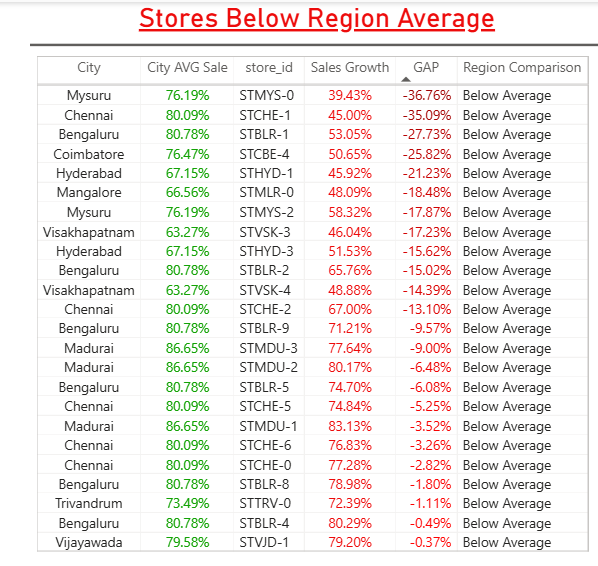

Layout of this report page (visuals, bound fields, positions):
{"tool":"powerbi","page":{"name":"Page 3","canvas":[1280,720],"ordinal":3},"visuals":[{"type":"tableEx","title":"Stores Below Region Average ","fields":{"Values":["stores.city","events.City Average Sales Growth","stores.store_id","events.Sales Growth","events.GAP","events.Below Avg"]},"box":[78.6,0,561.4,720],"z":0}]}

Visuals, with their boxes on the page's 1280x720 design canvas (x1, y1, x2, y2). These are canvas units, not pixel positions in the 598x566 screenshot, which may show the page scaled, cropped or inside an application window:
"Stores Below Region Average " tableEx: (x1=79, y1=0, x2=640, y2=720)
